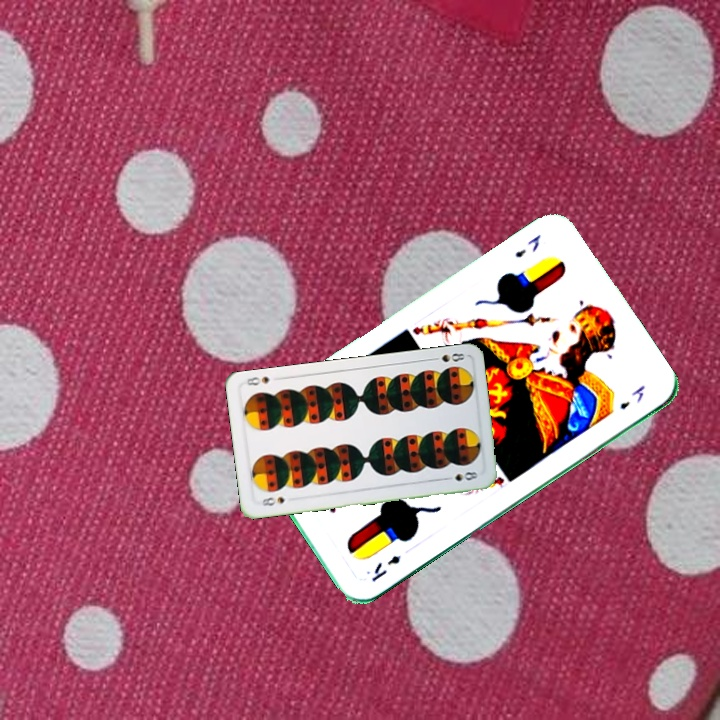EK: (367, 551, 403, 584), (510, 231, 544, 261)
S8: (427, 349, 467, 365), (257, 493, 287, 509)
